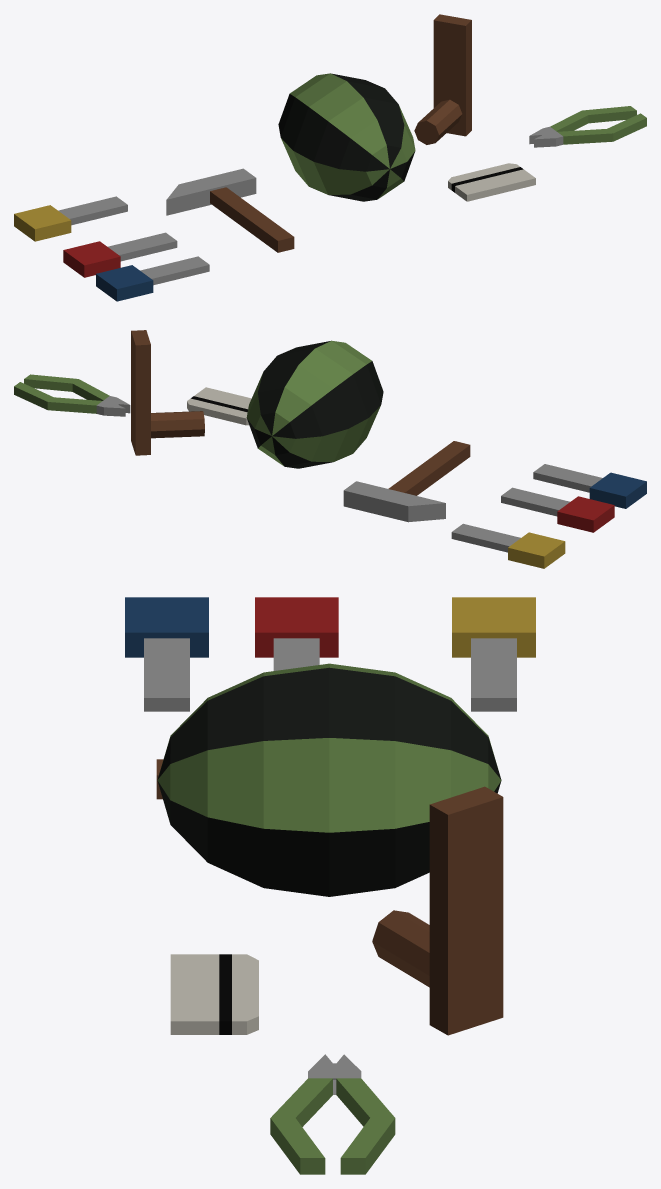
File: items.glb
3 views of the same model, one above another, from view 1: azimuth 30°, elevation 25°; view 2: azimuth 150°, elevation 25°; view 3: azimuth 270°, elevation 25° (orthographic). The views are drawn at different scales.
Visible parts, largest first — view 1: watermelon, handle, hammer, cut, padlock_key, safe_key, master_key, card; view 2: watermelon, hammer, handle, cut, safe_key, master_key, padlock_key, card; view 3: watermelon, handle, cut, padlock_key, safe_key, card, master_key.
Boxes of the visible parts, <box> form: watermelon: <box>278,73,415,201</box>; handle: <box>414,14,471,144</box>; hammer: <box>166,168,294,252</box>; cut: <box>529,106,646,147</box>; padlock_key: <box>96,256,209,301</box>; safe_key: <box>14,196,127,241</box>; master_key: <box>63,232,177,277</box>; card: <box>448,163,535,201</box>; watermelon: <box>246,340,383,468</box>; hammer: <box>343,441,470,522</box>; handle: <box>131,330,204,455</box>; cut: <box>14,374,130,416</box>; safe_key: <box>451,523,565,568</box>; master_key: <box>501,487,614,532</box>; padlock_key: <box>533,464,646,508</box>; card: <box>187,387,251,425</box>; watermelon: <box>157,663,501,896</box>; handle: <box>372,786,503,1035</box>; cut: <box>270,1054,395,1174</box>; padlock_key: <box>125,597,208,711</box>; safe_key: <box>452,597,535,711</box>; card: <box>170,954,258,1034</box>; master_key: <box>255,597,338,670</box>.
Bounding box in the file's own units: 2.41 × 0.468 × 0.7499.
